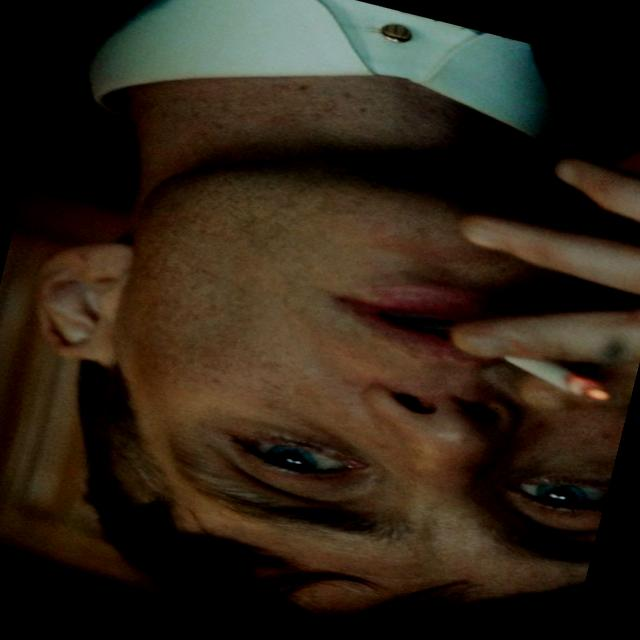smoke: (434, 305, 640, 441)
